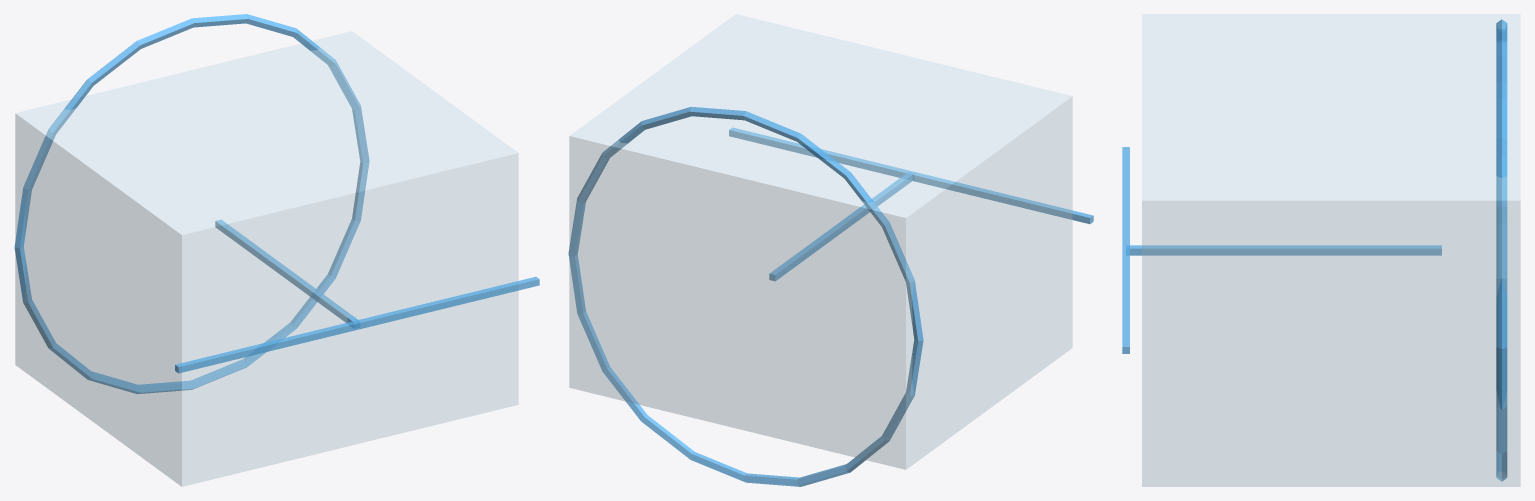
The model's file is 11_camera_volume_helper.glb.
The picture shows the model from 3 angles, left to right: view 1: azimuth 30°, elevation 25°; view 2: azimuth 150°, elevation 25°; view 3: azimuth 270°, elevation 25°; orthographic projection. The views are drawn at different scales.
Visible parts, largest first — view 1: transparent_volume, helper_ring, axis_x, axis_z; view 2: transparent_volume, helper_ring, axis_x, axis_z; view 3: transparent_volume, helper_ring, axis_z, axis_x.
Part boxes in pixels (x1=…): transparent_volume: x1=15, y1=31, x2=518, y2=486; helper_ring: x1=14, y1=14, x2=369, y2=393; axis_x: x1=175, y1=276, x2=539, y2=373; axis_z: x1=215, y1=219, x2=359, y2=328; transparent_volume: x1=569, y1=14, x2=1072, y2=469; helper_ring: x1=568, y1=106, x2=923, y2=486; axis_x: x1=729, y1=127, x2=1093, y2=224; axis_z: x1=769, y1=172, x2=913, y2=281; transparent_volume: x1=1142, y1=14, x2=1520, y2=486; helper_ring: x1=1496, y1=19, x2=1507, y2=481; axis_z: x1=1126, y1=245, x2=1441, y2=255; axis_x: x1=1122, y1=147, x2=1129, y2=353.
Bounding box in the file's own units: 1.5 × 1.48 × 1.26.
